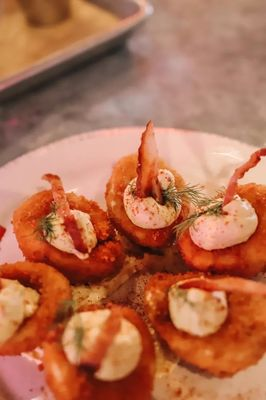curry: (2, 1, 266, 391)
sandwich: (4, 119, 266, 400)
